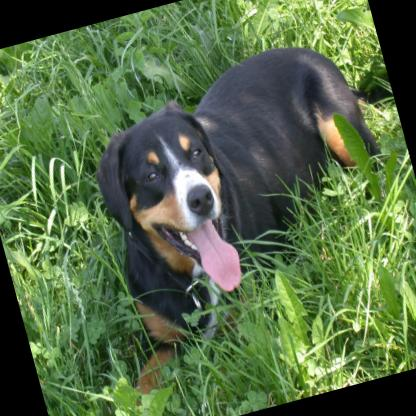EntleBucher: (49, 20, 416, 405)
